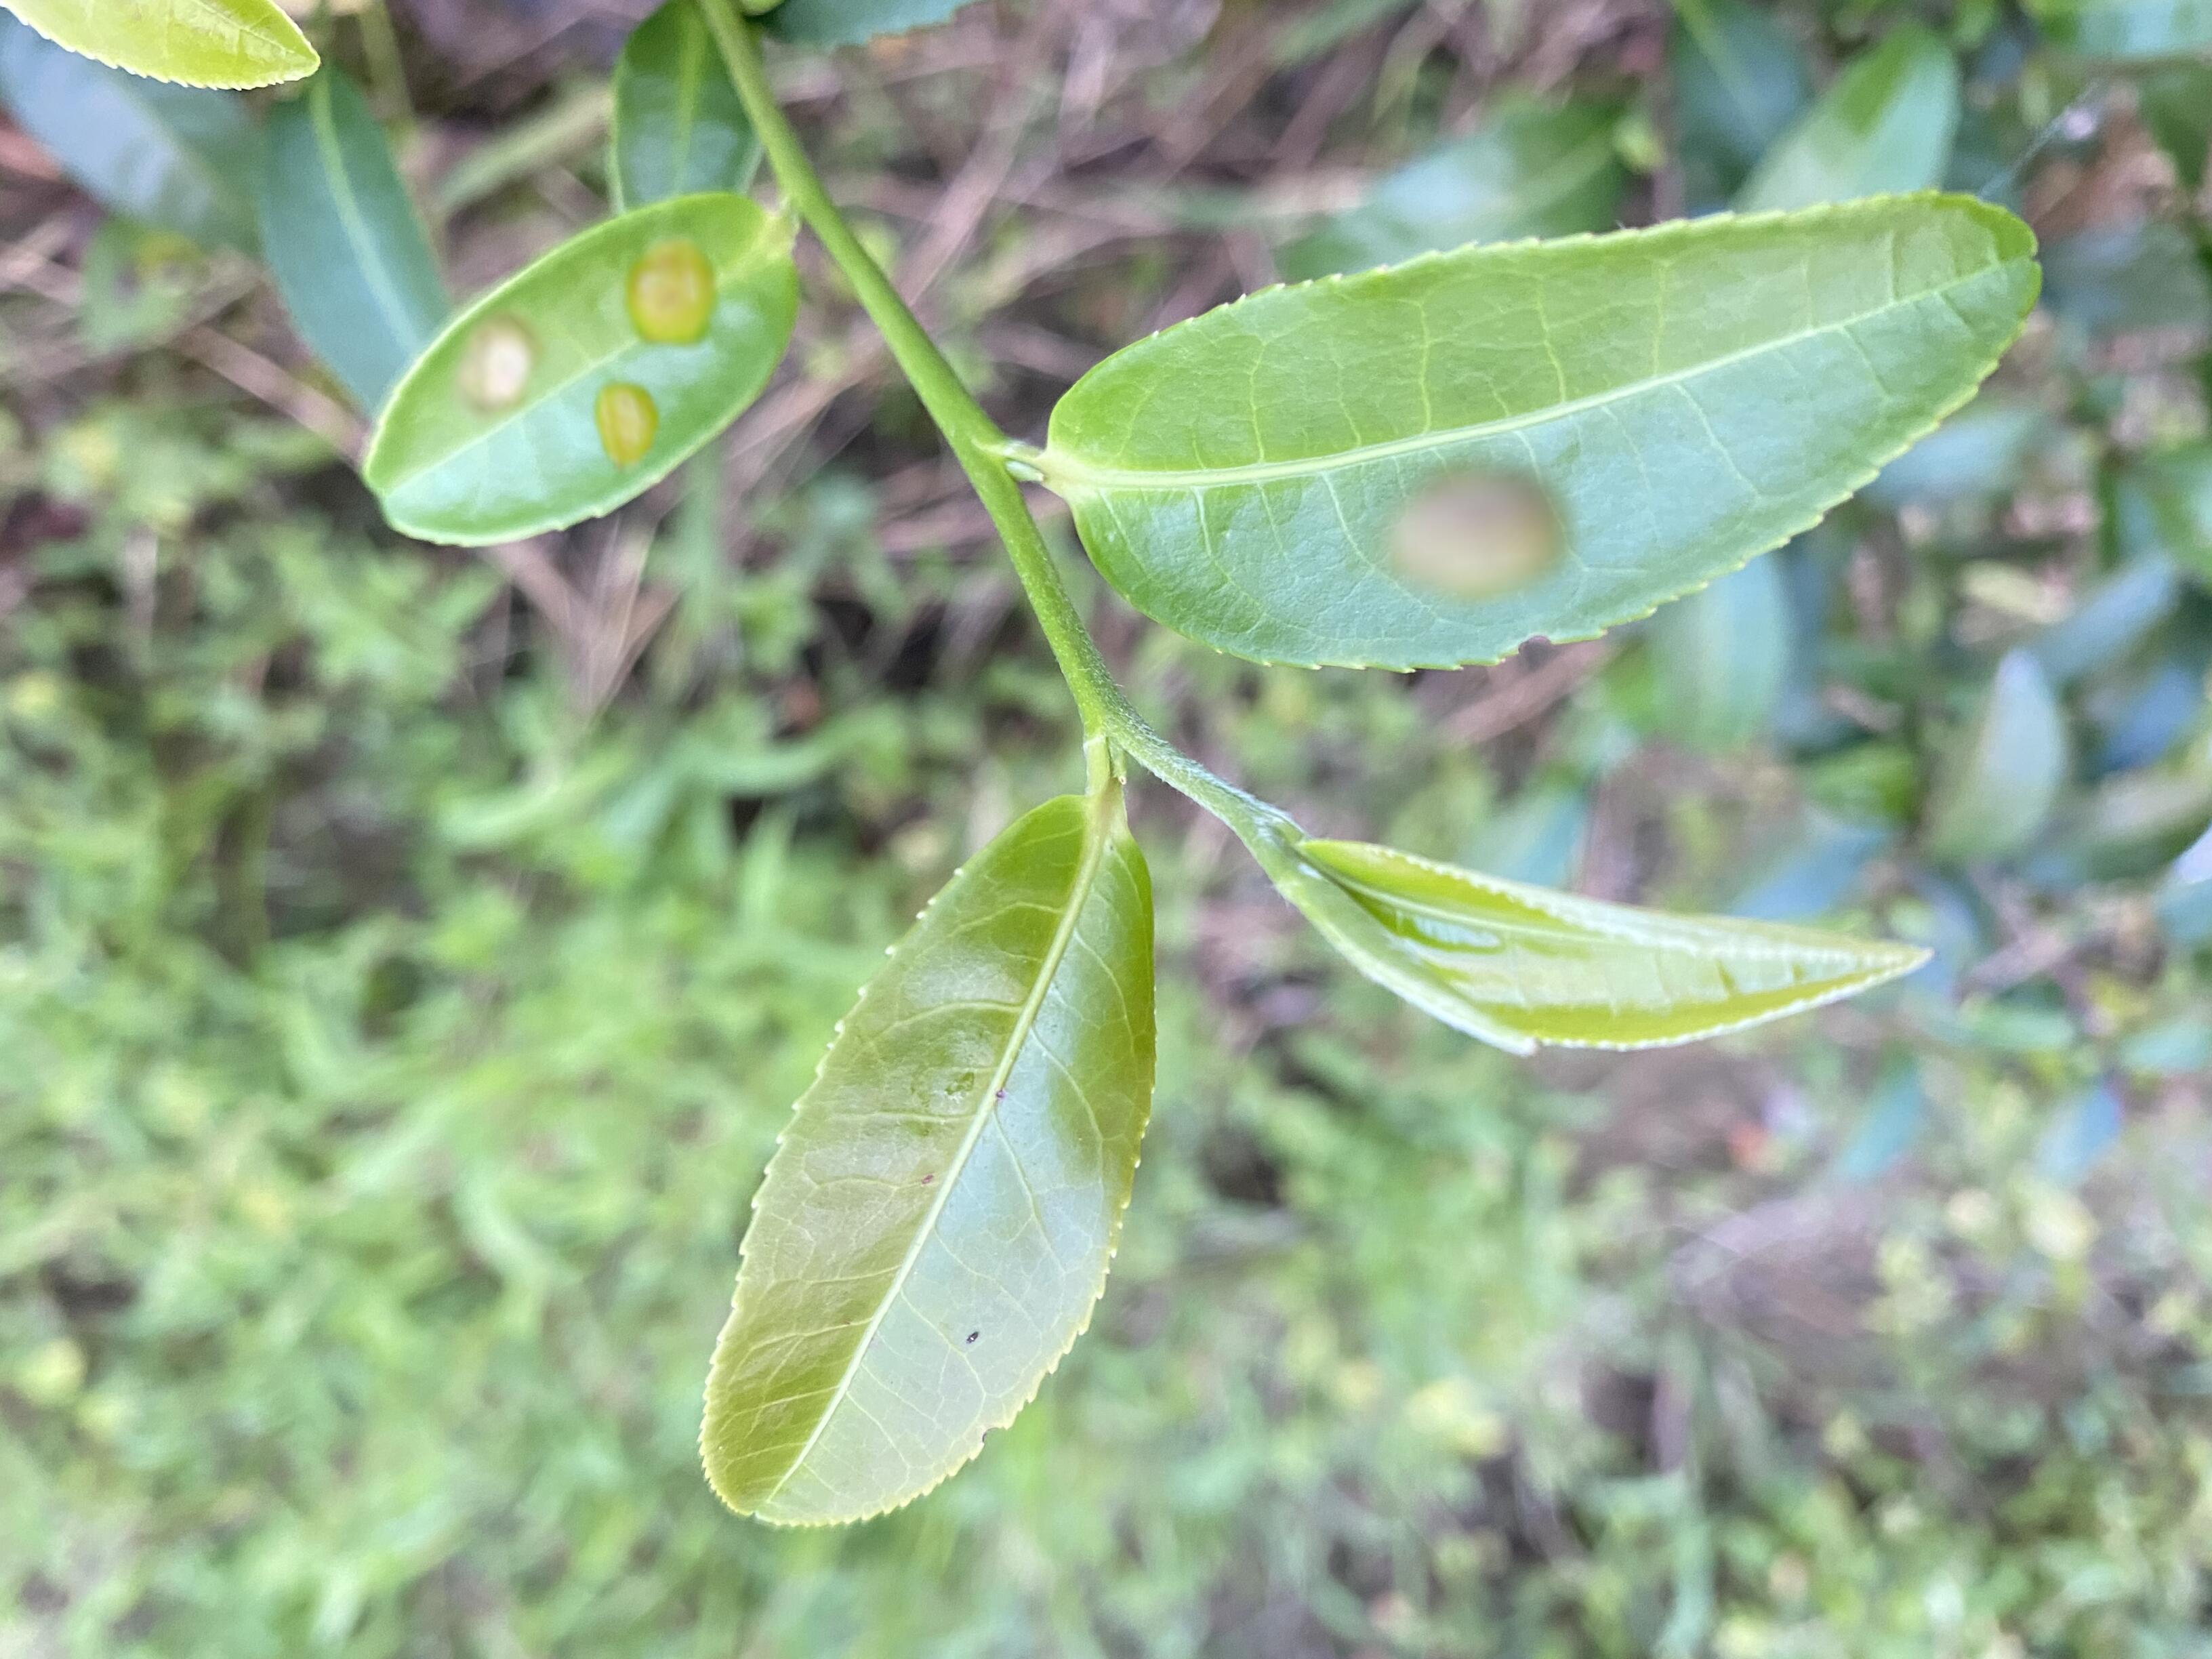chabing_high: (364, 200, 798, 544)
chabing_low: (1042, 190, 2045, 674)
healthy: (695, 795, 1158, 1535)
